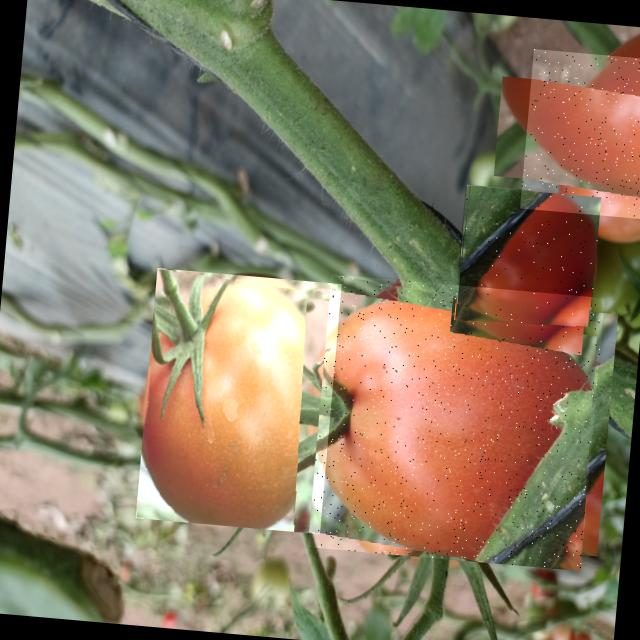Ripe Tomato: (307, 274, 604, 570), (454, 186, 600, 332), (519, 48, 640, 219)
Unripe Tomato: (135, 267, 341, 534)
